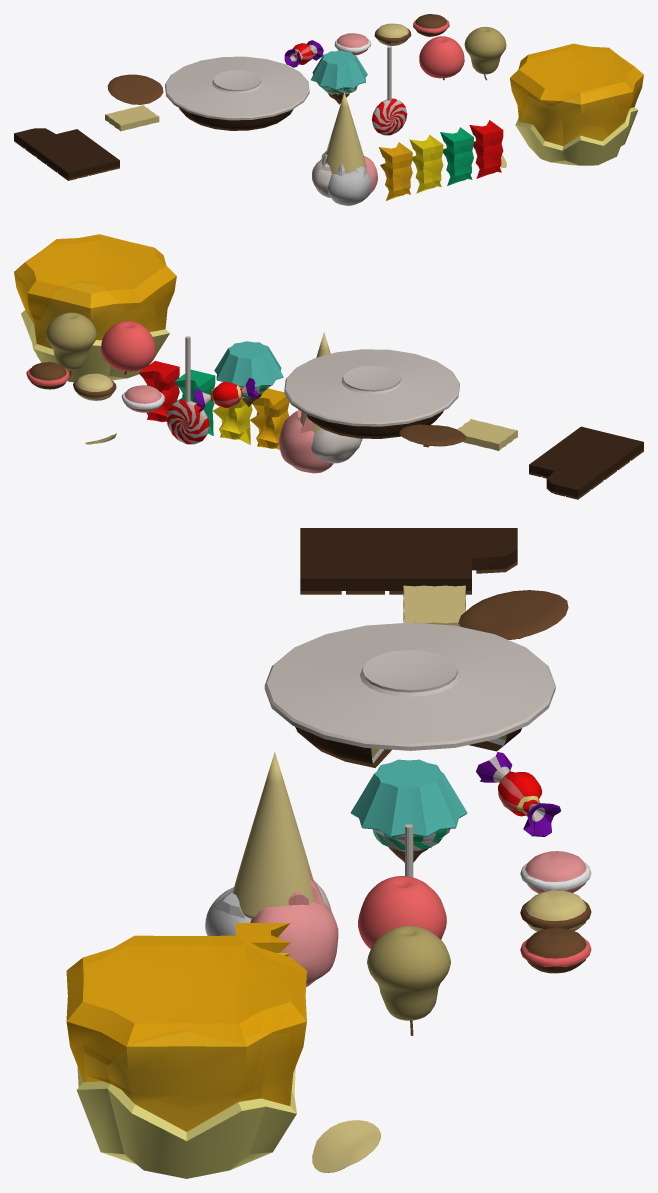
File: all.fbx
The picture shows the model from 3 angles, top to bottom: view 1: azimuth 30°, elevation 25°; view 2: azimuth 150°, elevation 25°; view 3: azimuth 270°, elevation 25°; orthographic projection. The views are drawn at different scales.
Parts seen in each view (by area): view 1: pCube15, pCylinder4, pSphere20, pCube16, pCylinder2, pSphere2, pSphere3, pCube18, pCube17, pCube14, pCube19, pCube12 (+7 smaller); view 2: pCube15, pCylinder4, pCube16, pSphere20, pCylinder2, pSphere2, pSphere3, pSphere21, pCube18, pCube19, pSphere12, pCube13 (+7 smaller); view 3: pCube15, pCylinder4, pCube16, pSphere20, pCylinder2, pSphere3, pSphere2, pCube12, pSphere19, pDisc1, pSphere18, pCube13 (+4 smaller).
Boxes of the visible parts, x1=… form: pCube15: x1=510, y1=43, x2=643, y2=165; pCylinder4: x1=165, y1=56, x2=309, y2=120; pSphere20: x1=312, y1=92, x2=377, y2=205; pCube16: x1=14, y1=128, x2=119, y2=180; pCylinder2: x1=311, y1=50, x2=367, y2=104; pSphere2: x1=419, y1=36, x2=464, y2=80; pSphere3: x1=464, y1=26, x2=506, y2=80; pCube18: x1=379, y1=142, x2=412, y2=200; pCube17: x1=409, y1=134, x2=443, y2=193; pCube14: x1=440, y1=127, x2=473, y2=185; pCube19: x1=469, y1=120, x2=503, y2=178; pCube12: x1=107, y1=74, x2=163, y2=104; pCube15: x1=14, y1=234, x2=176, y2=382; pCylinder4: x1=284, y1=349, x2=459, y2=426; pCube16: x1=529, y1=426, x2=643, y2=499; pSphere20: x1=278, y1=332, x2=362, y2=473; pCylinder2: x1=214, y1=341, x2=283, y2=406; pSphere2: x1=101, y1=321, x2=155, y2=374; pSphere3: x1=46, y1=312, x2=96, y2=377; pSphere21: x1=166, y1=336, x2=209, y2=444; pCube18: x1=250, y1=388, x2=289, y2=449; pCube19: x1=139, y1=361, x2=179, y2=422; pSphere12: x1=307, y1=411, x2=443, y2=438; pCube13: x1=457, y1=419, x2=517, y2=450; pCube15: x1=66, y1=935, x2=306, y2=1178; pCylinder4: x1=264, y1=622, x2=555, y2=750; pCube16: x1=300, y1=528, x2=517, y2=594; pSphere20: x1=205, y1=751, x2=338, y2=986; pCylinder2: x1=350, y1=759, x2=467, y2=862; pSphere3: x1=367, y1=926, x2=450, y2=1035; pSphere2: x1=358, y1=876, x2=446, y2=949; pCube12: x1=458, y1=590, x2=568, y2=639; pSphere19: x1=476, y1=752, x2=560, y2=836; pDisc1: x1=312, y1=1120, x2=380, y2=1172; pSphere18: x1=520, y1=927, x2=591, y2=973; pCube13: x1=403, y1=585, x2=465, y2=626.
Size of the model in its own units: 157 by 36.69 by 66.83.
